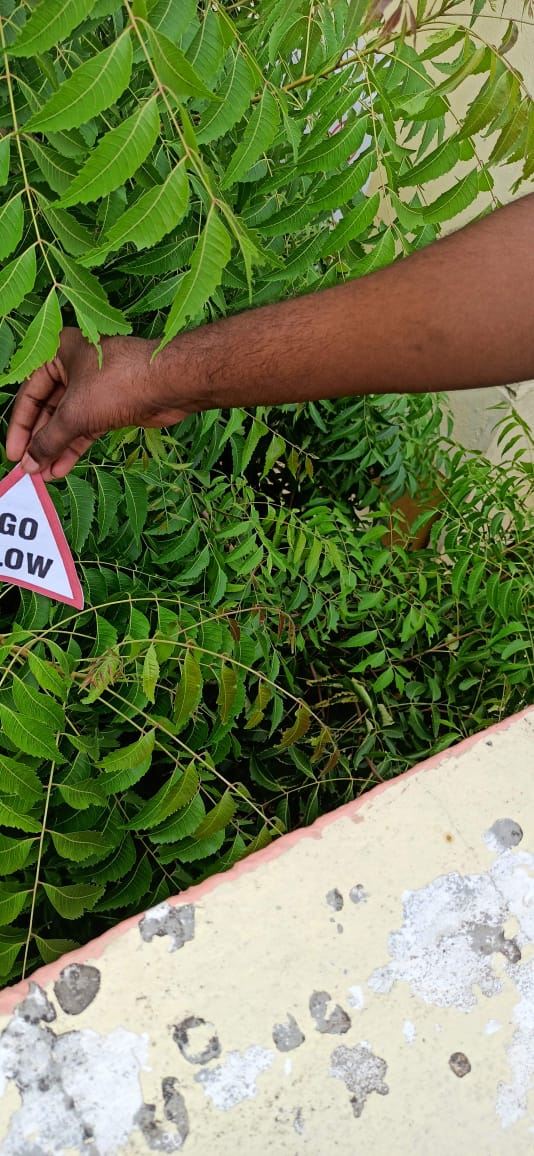GO SLOW: (1, 447, 104, 612)
